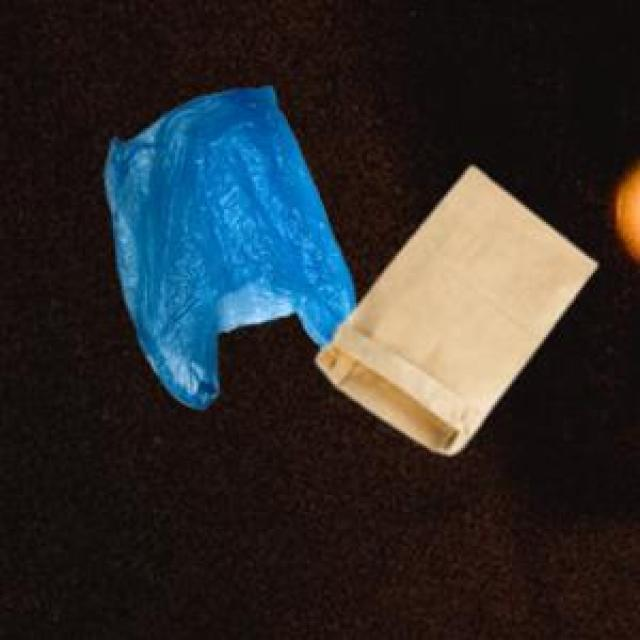paper: (314, 162, 593, 450)
